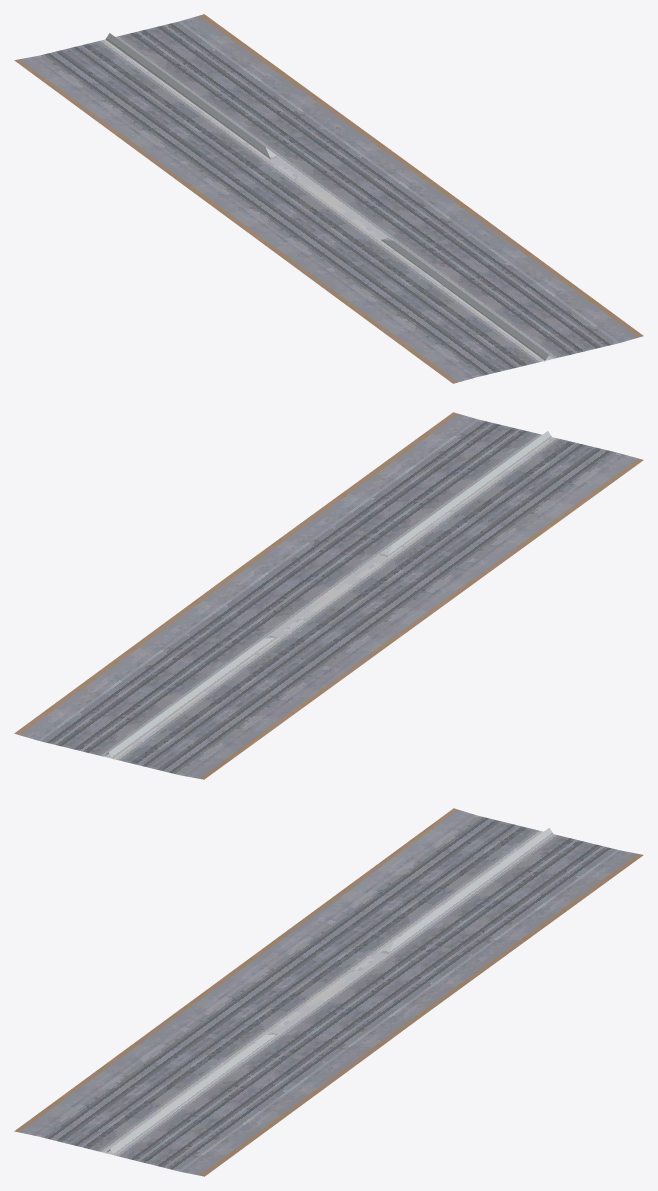
File: lodassedge16.obj
3 views of the same model, one above another, from view 1: azimuth 30°, elevation 25°; view 2: azimuth 150°, elevation 25°; view 3: azimuth 330°, elevation 25° (orthographic).
Visible parts, largest first — view 1: lodasSedge16; view 2: lodasSedge16; view 3: lodasSedge16.
Part boxes in pixels (x1=…): lodasSedge16: x1=14, y1=14, x2=643, y2=383; lodasSedge16: x1=14, y1=412, x2=643, y2=779; lodasSedge16: x1=14, y1=808, x2=643, y2=1176.
Bounding box in the file's own units: 40.12 × 1.19 × 160.
1 material, 1 textured.
